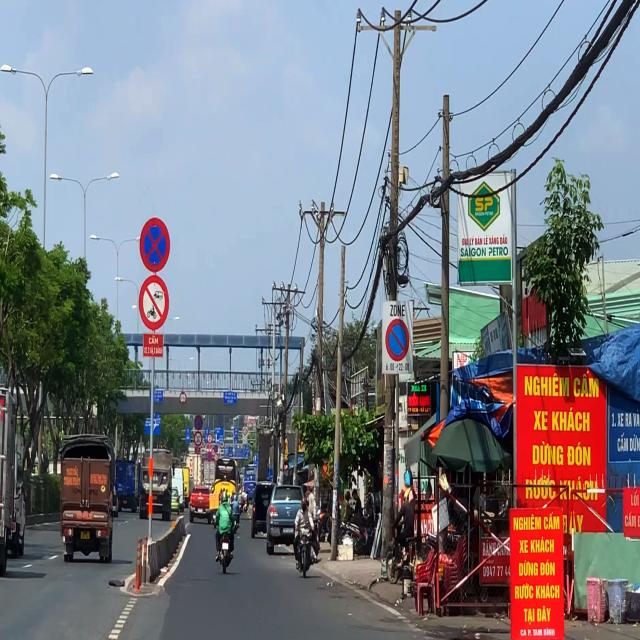Cam con lai: (138, 276, 170, 332)
Cam do: (386, 319, 410, 361)
Cam dung va do: (140, 217, 170, 272), (194, 415, 203, 430)
Chieu cao toi da: (180, 391, 187, 404)
